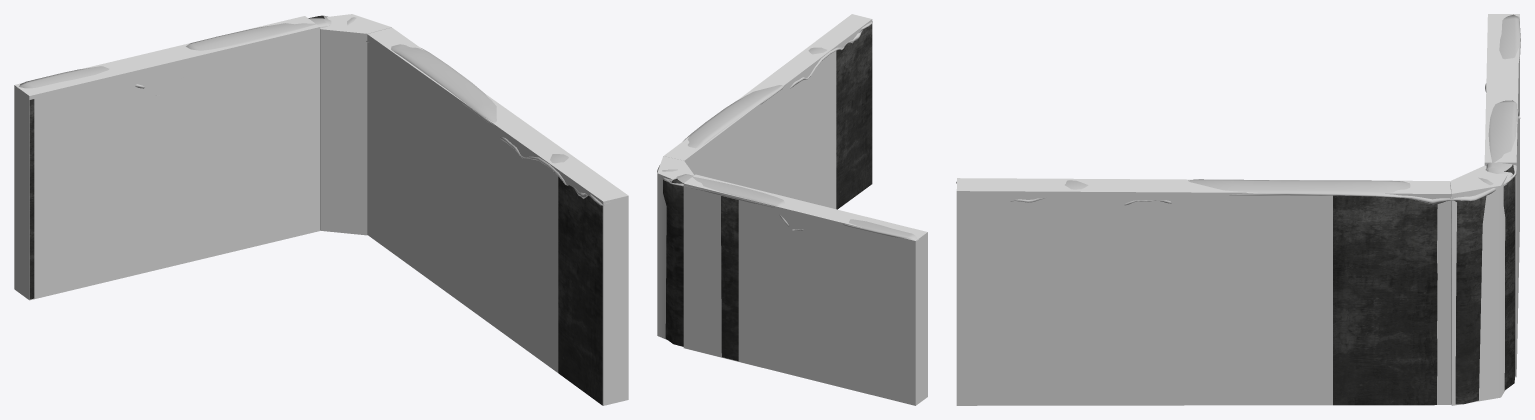
The model's file is Wall-Turn.fbx.
The picture shows the model from 3 angles, left to right: view 1: azimuth 30°, elevation 25°; view 2: azimuth 150°, elevation 25°; view 3: azimuth 270°, elevation 25°; orthographic projection. The views are drawn at different scales.
Visible parts, largest first — view 1: Wall-Turn_col, Wall-Turn, snow; view 2: Wall-Turn_col, Wall-Turn, snow; view 3: Wall-Turn_col, Wall-Turn, snow.
Boxes of the visible parts, box(x1,y1,x2,y2) form: Wall-Turn_col: box(14, 14, 628, 405); Wall-Turn: box(29, 15, 602, 405); snow: box(15, 17, 609, 205); Wall-Turn_col: box(657, 14, 927, 405); Wall-Turn: box(663, 24, 872, 360); snow: box(657, 21, 918, 241); Wall-Turn_col: box(956, 14, 1519, 405); Wall-Turn: box(1333, 164, 1515, 405); snow: box(956, 14, 1520, 205).
Size of the model in its own units: 236 by 133 by 315.
